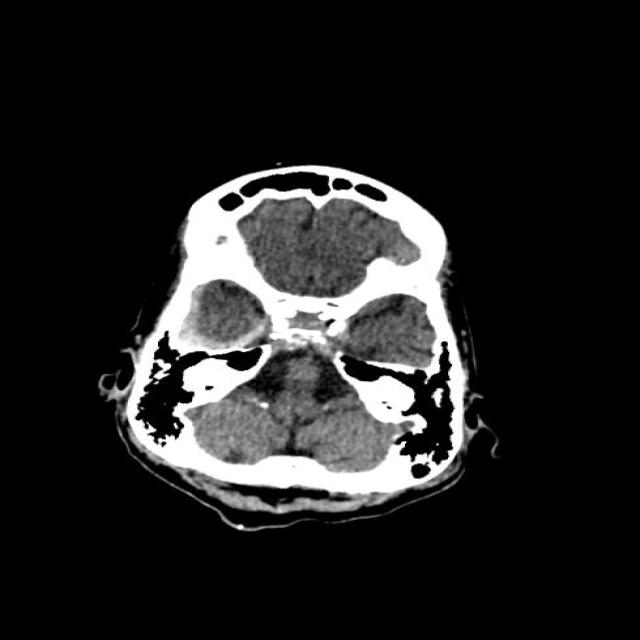Subdural: (141, 274, 270, 382)
